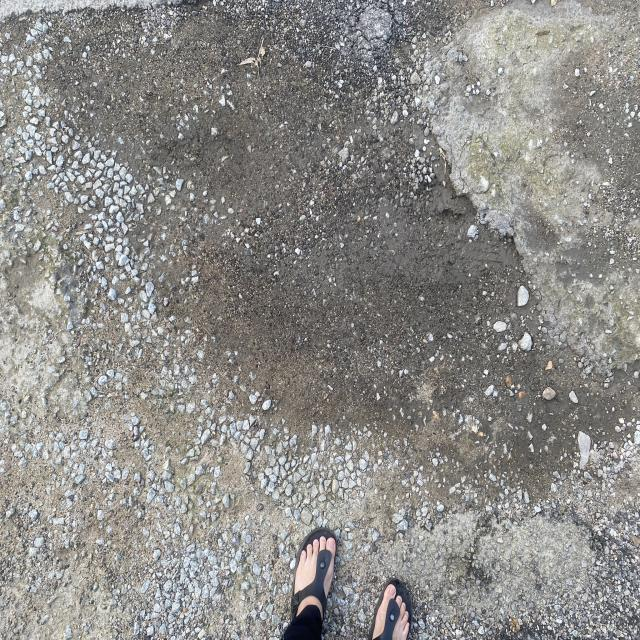pothole: (372, 94, 560, 296)
